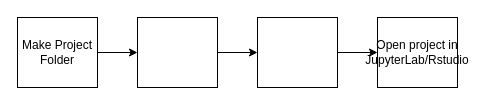
Some shapes in this 486 by 105 pixel diagram are drawn without their labels. Here are the shapes that lost their labels. From the top down, the box of each, then its label:
(136, 16, 218, 88): "Move" into Folder
(256, 16, 338, 88): Install the packages you need
